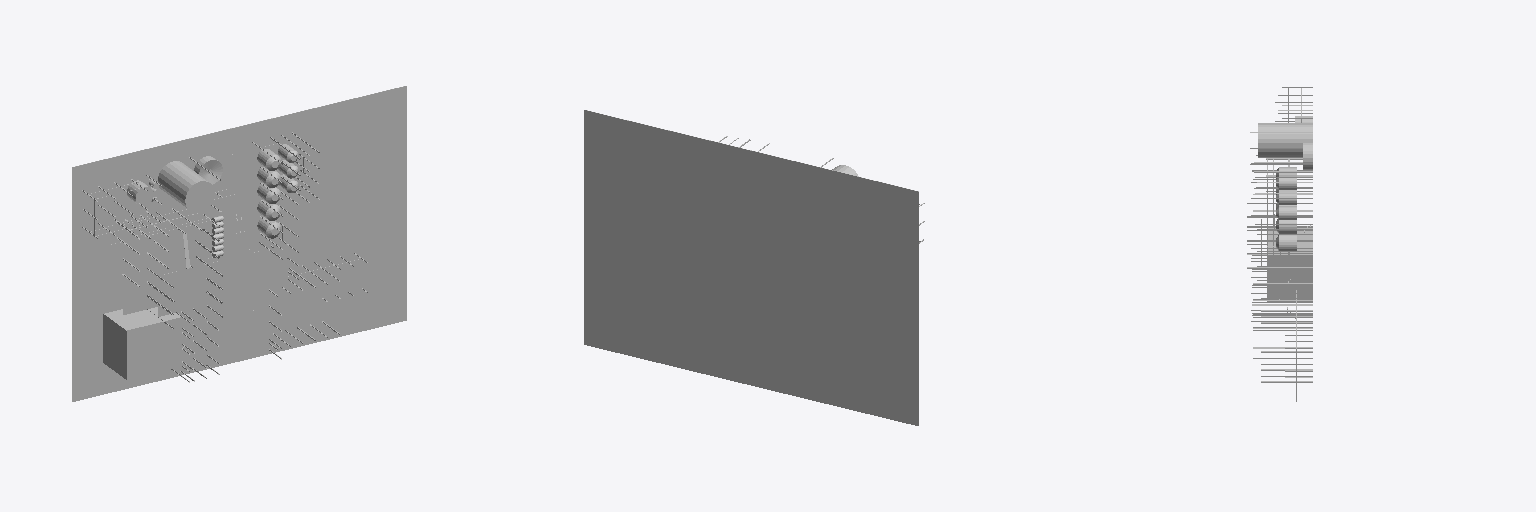
3 views of the same model, side by side, from view 1: azimuth 30°, elevation 25°; view 2: azimuth 150°, elevation 25°; view 3: azimuth 270°, elevation 25° (orthographic).
Parts seen in each view (by area): view 1: MeshBody1:10, MeshBody1:7, MeshBody1:11, MeshBody1:4, MeshBody1:1, MeshBody1, MeshBody1:20, MeshBody1:6, MeshBody1:5; view 2: MeshBody1:10; view 3: MeshBody1:11, MeshBody1:20.
Part boxes in pixels (x1,y1,x2,y2): MeshBody1:10: (72, 86, 406, 401); MeshBody1:7: (158, 244, 287, 371); MeshBody1:11: (103, 307, 181, 379); MeshBody1:4: (255, 258, 362, 333); MeshBody1:1: (110, 189, 244, 314); MeshBody1: (231, 138, 299, 244); MeshBody1:20: (158, 161, 214, 213); MeshBody1:6: (203, 194, 242, 260); MeshBody1:5: (130, 212, 202, 246); MeshBody1:10: (584, 110, 918, 425); MeshBody1:11: (1267, 228, 1312, 301); MeshBody1:20: (1258, 123, 1312, 157).
Size of the model in its own units: 11043 by 7386 by 1898.